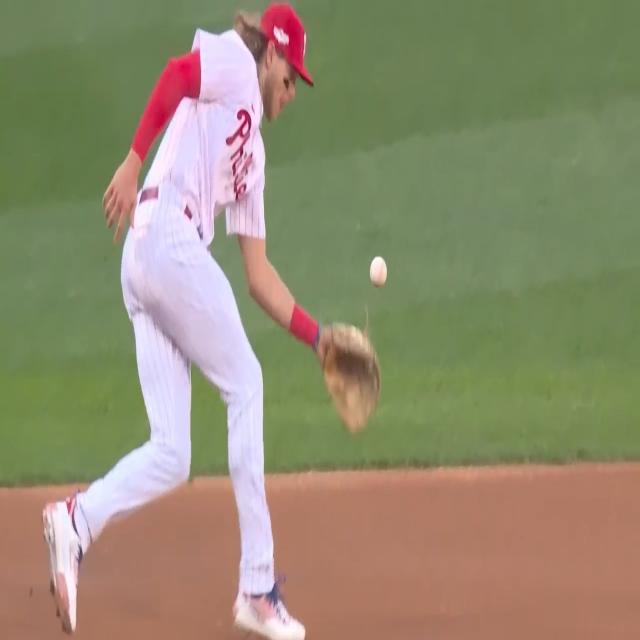baseball: (368, 252, 389, 292)
